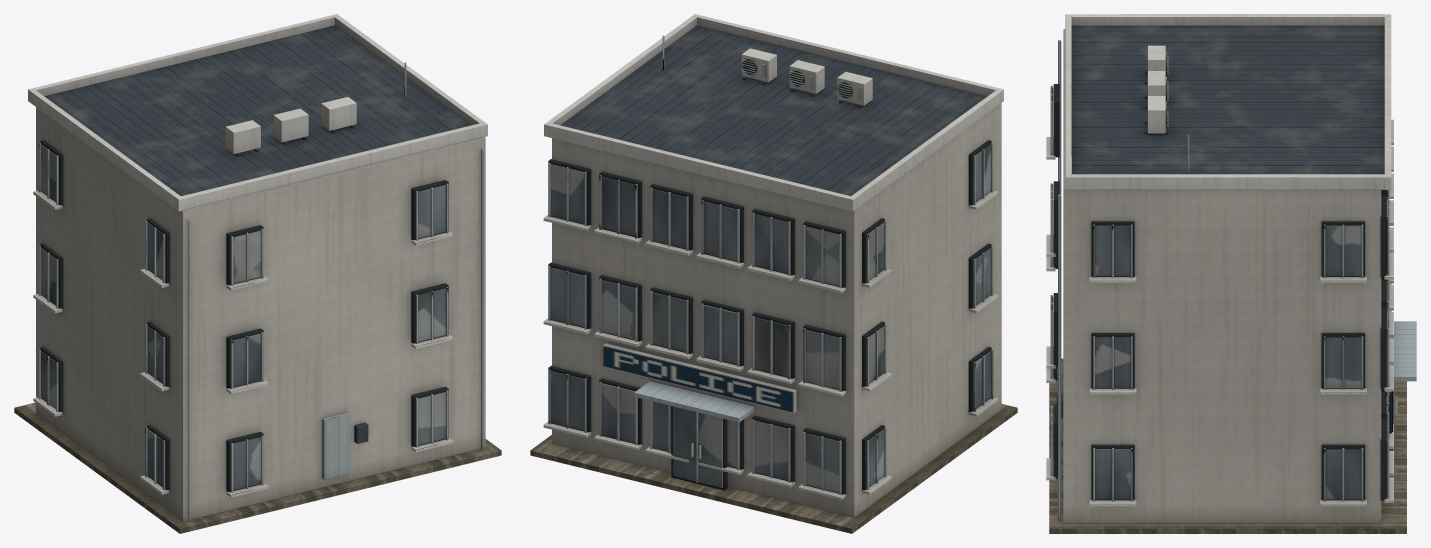
Rendered from public_005.obj.
The picture shows the model from 3 angles, left to right: view 1: azimuth 30°, elevation 25°; view 2: azimuth 150°, elevation 25°; view 3: azimuth 270°, elevation 25°; orthographic projection. The views are drawn at different scales.
Visible parts, largest first — view 1: public_005; view 2: public_005; view 3: public_005.
Part boxes in pixels (x1,y1,x2,y2): public_005: (14,14,501,533); public_005: (530,14,1017,533); public_005: (1046,14,1416,533).
Size of the model in its own units: 10.1 by 10.6 by 9.32.
1 material, 1 textured.
